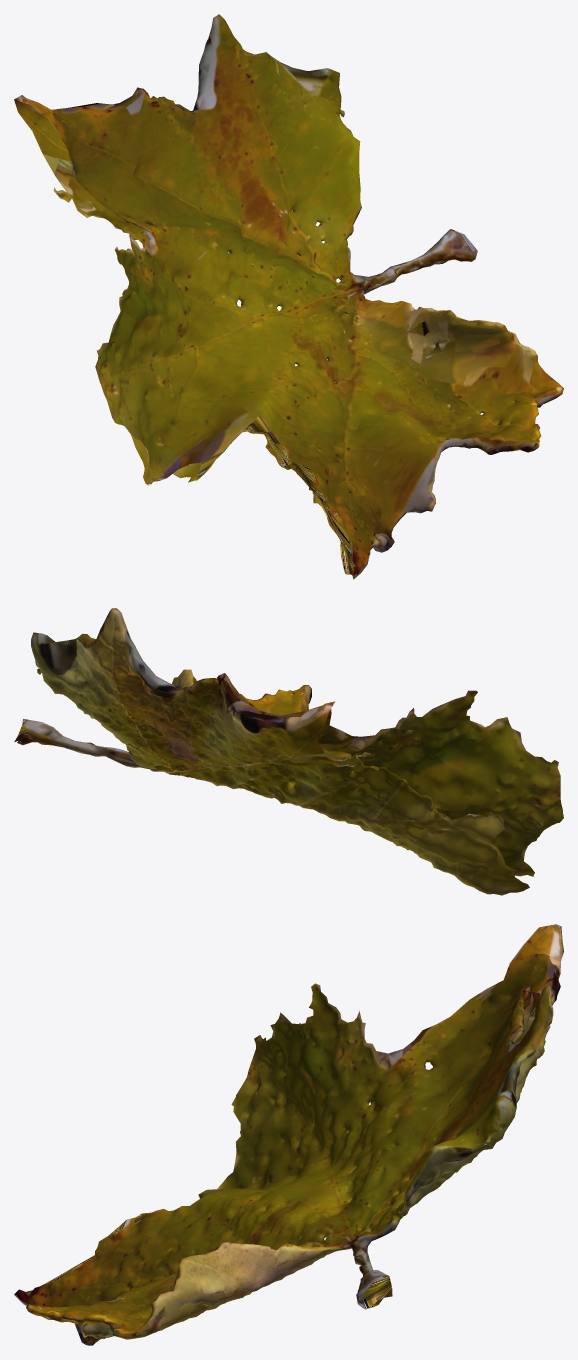
Rendered from leaf2.glb.
3 renders of one model, top to bottom at view 1: azimuth 30°, elevation 25°; view 2: azimuth 150°, elevation 25°; view 3: azimuth 270°, elevation 25°, orthographic. The views are drawn at different scales.
Parts seen in each view (by area): view 1: export_2; view 2: export_2; view 3: export_2.
Part boxes in pixels (bbox=[...]): export_2: bbox=[14, 14, 563, 579]; export_2: bbox=[14, 608, 563, 895]; export_2: bbox=[14, 924, 563, 1345].
Bounding box in the file's own units: 0.6411 × 0.5166 × 0.6674.
Materials: 1 (1 with a texture image).
